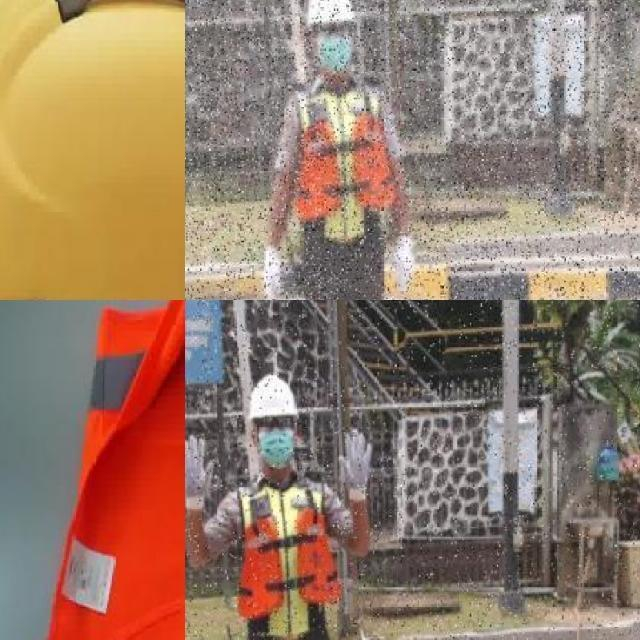apron: (338, 425, 374, 505), (185, 430, 215, 518), (391, 233, 414, 296), (261, 246, 284, 300)
